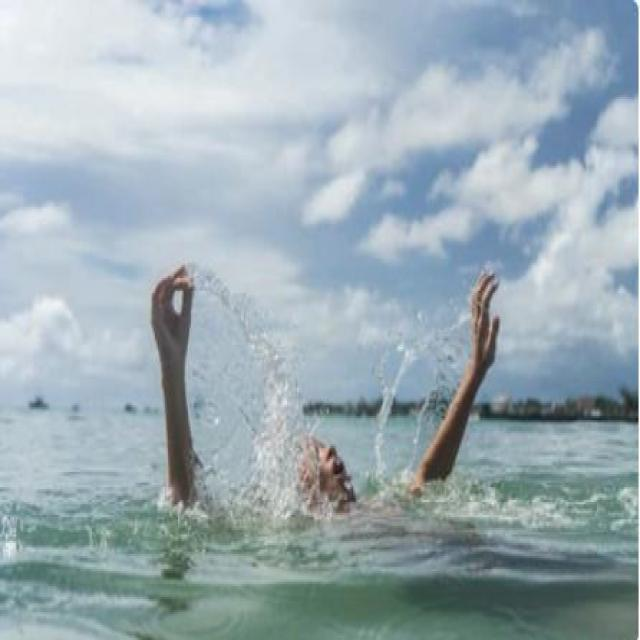Out of Water: (146, 254, 500, 530)
